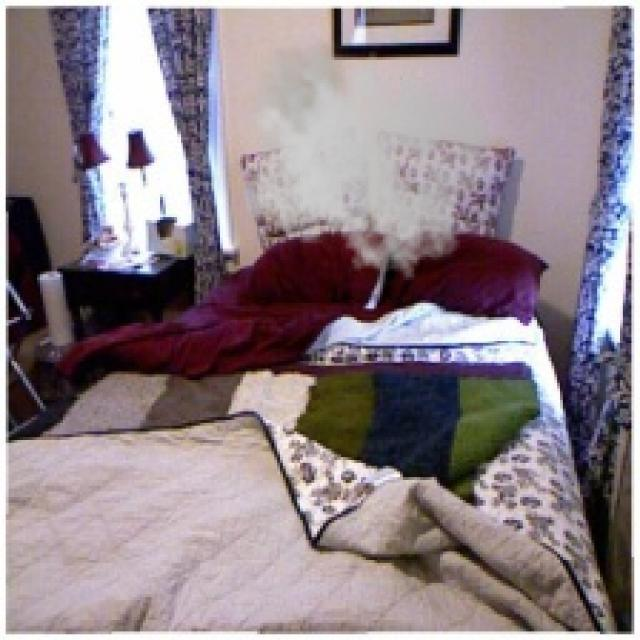Smoke: (237, 34, 494, 280)
